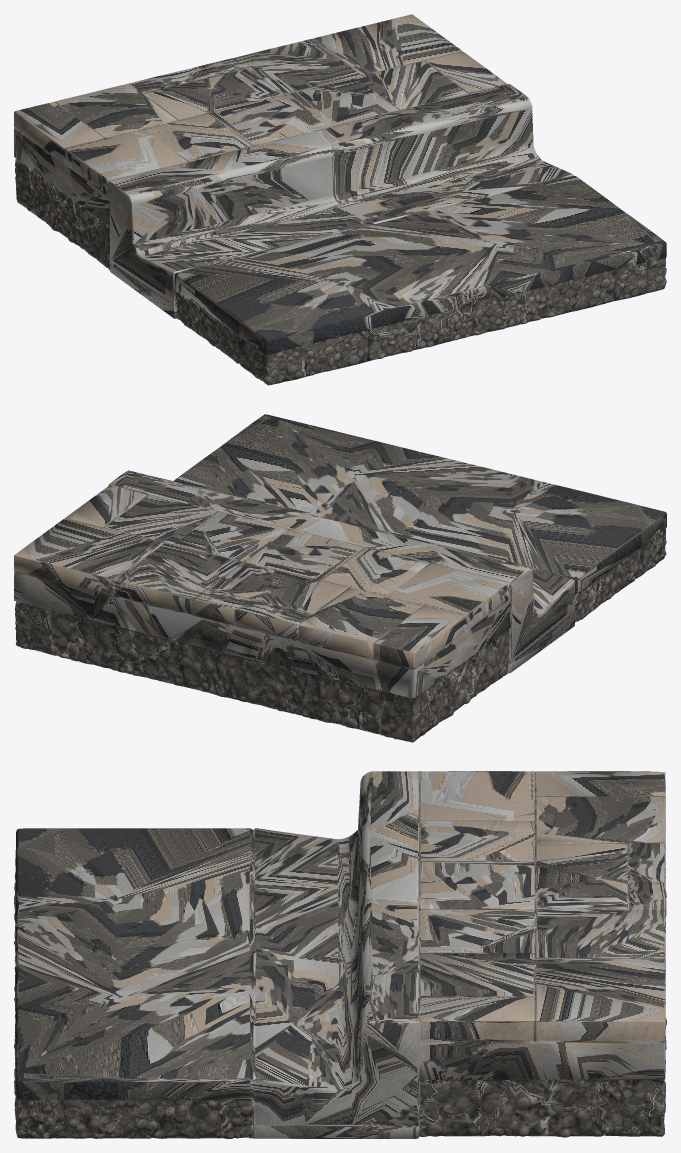
Rendered from kerb.glb.
The picture shows the model from 3 angles, top to bottom: view 1: azimuth 30°, elevation 25°; view 2: azimuth 150°, elevation 25°; view 3: azimuth 270°, elevation 25°; orthographic projection. The views are drawn at different scales.
Bounding box in the file's own units: 1.74 × 0.3776 × 1.9.
Materials: 1 (1 with a texture image).
